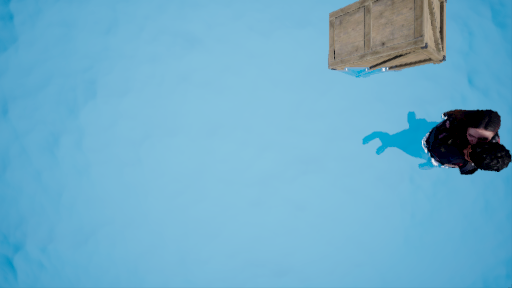person: (358, 100, 509, 185)
